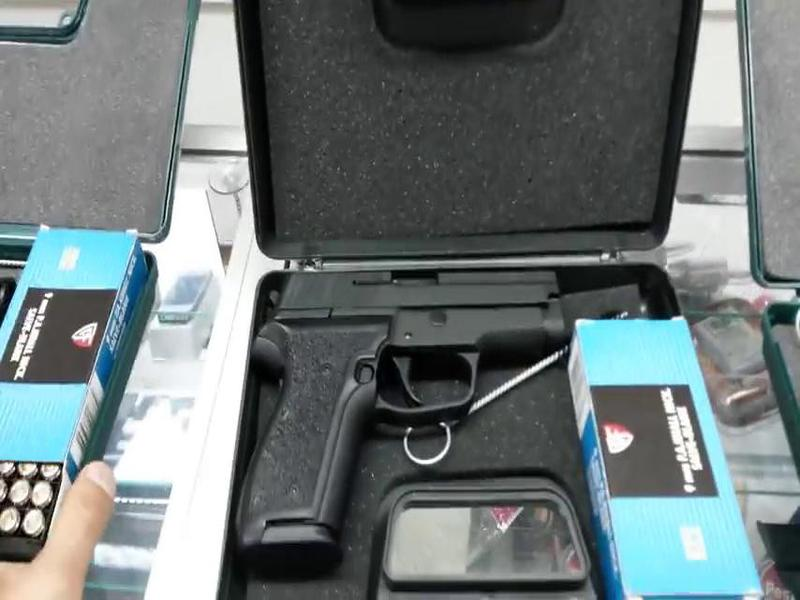Pistola: (191, 249, 574, 564)
